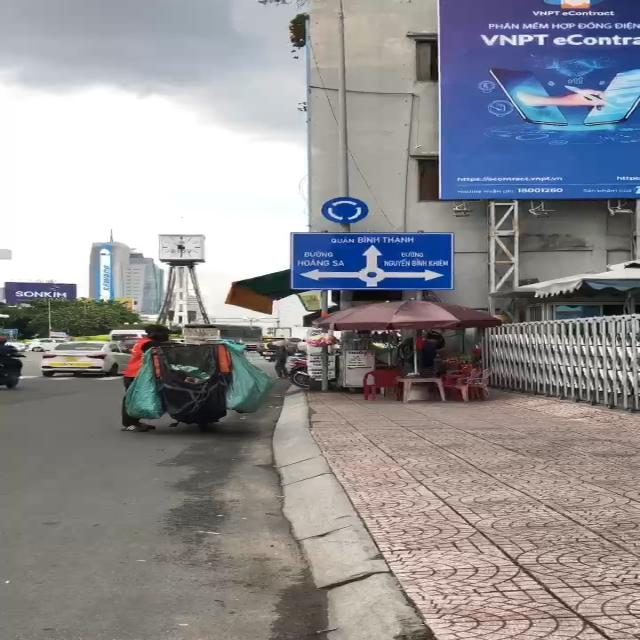Bien bao noi giao nhau chay theo vong xuyen: (319, 194, 373, 225)
